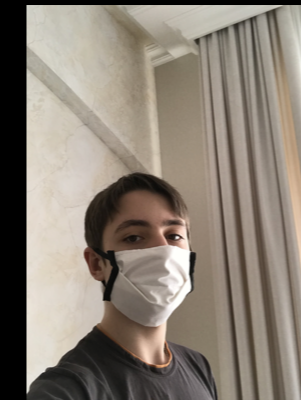with_mask: (103, 211, 196, 328)
